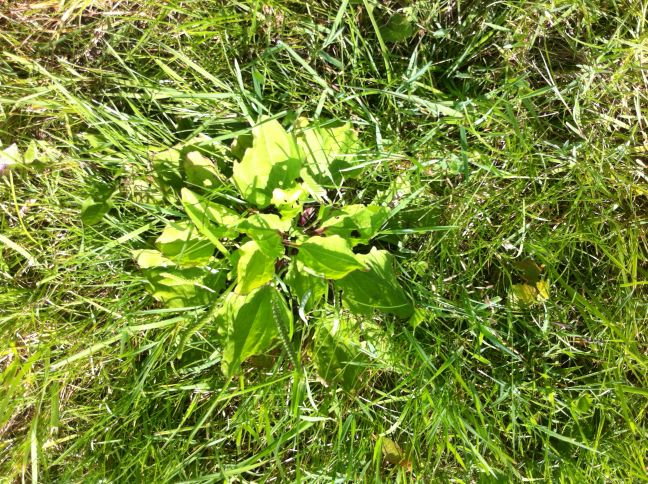weed1: (137, 114, 421, 376)
